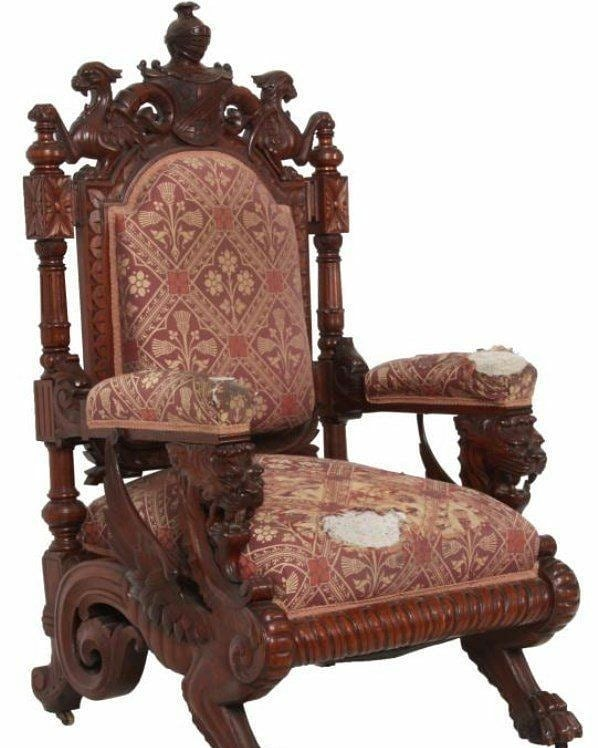Carving Chair: (55, 52, 587, 748)
